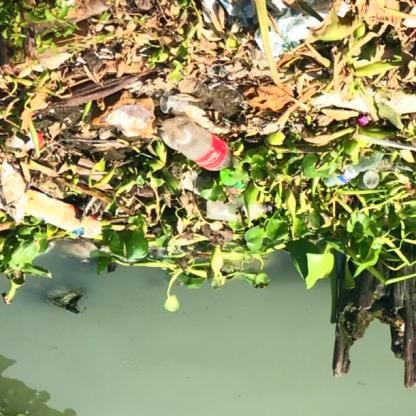Plastic: (159, 111, 235, 172), (319, 164, 361, 191)
Trash: (361, 168, 384, 192)
